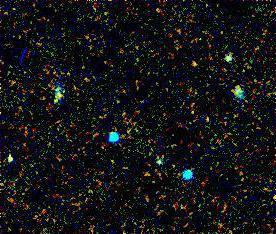star: (177, 49, 207, 79)
